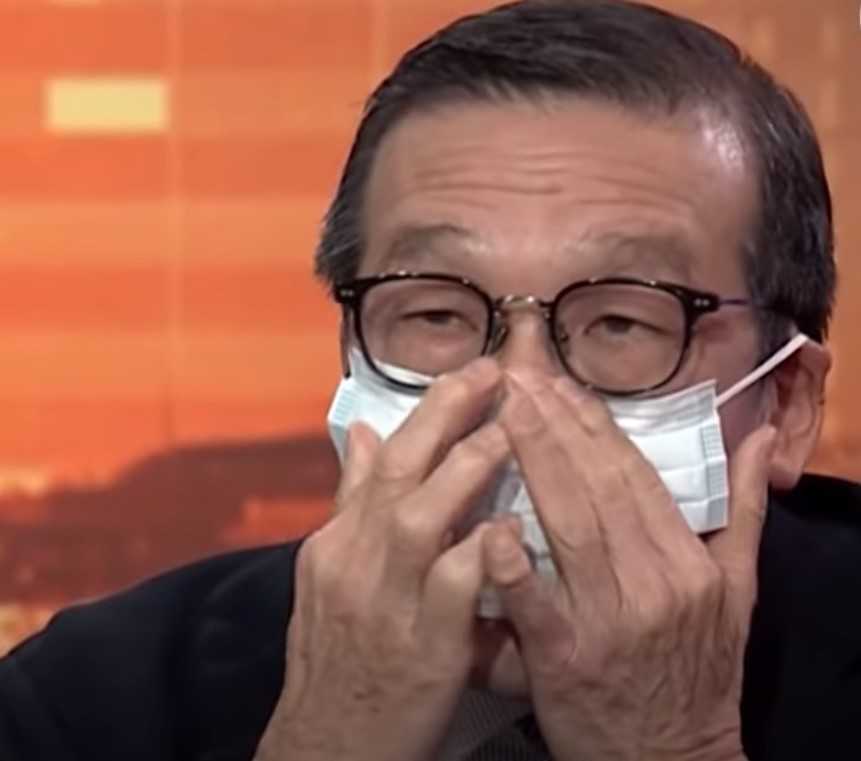face_with_mask: (327, 26, 839, 704)
